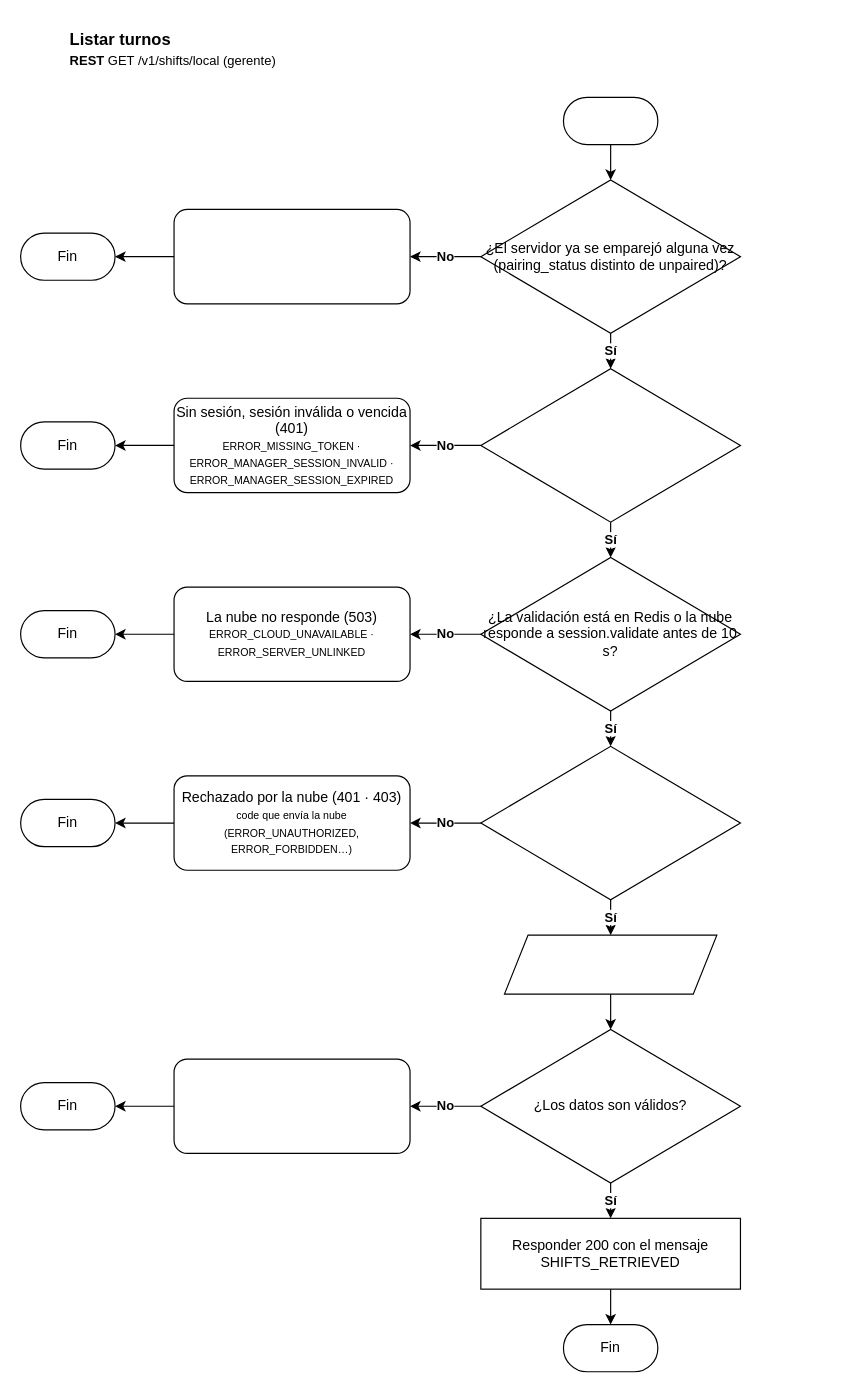
This 844x1392 diagram has some shape labels left out. The centre of each missing label's shape, as x and y in pixels:
Datos inválidos (400) ERROR_BAD_REQUEST: the point at 291,1105
Inicio: the point at 610,120
Recibir datos: the point at 610,964
Servidor sin emparejar (409) ERROR_SERVER_NOT_PAIRED: the point at 291,256
¿La nube acepta la sesión del gerente con este servidor?: the point at 610,822
¿Trae una sesión de gerente válida (Bearer mss_..., sin 30 min de inactividad)?: the point at 610,445
